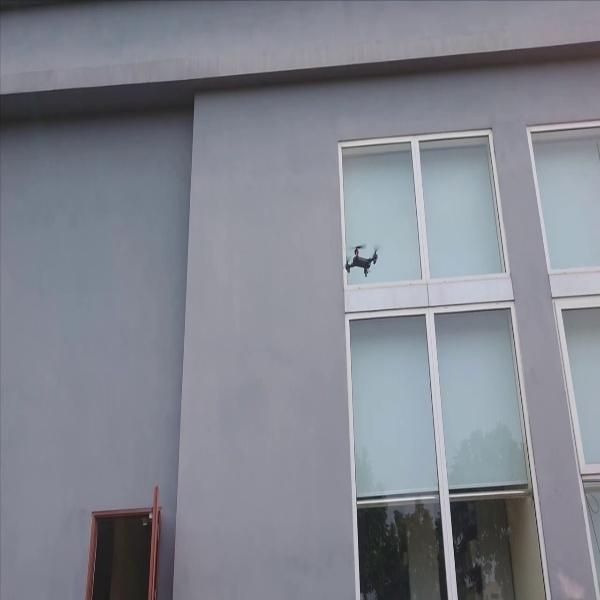drone: (343, 240, 384, 281)
